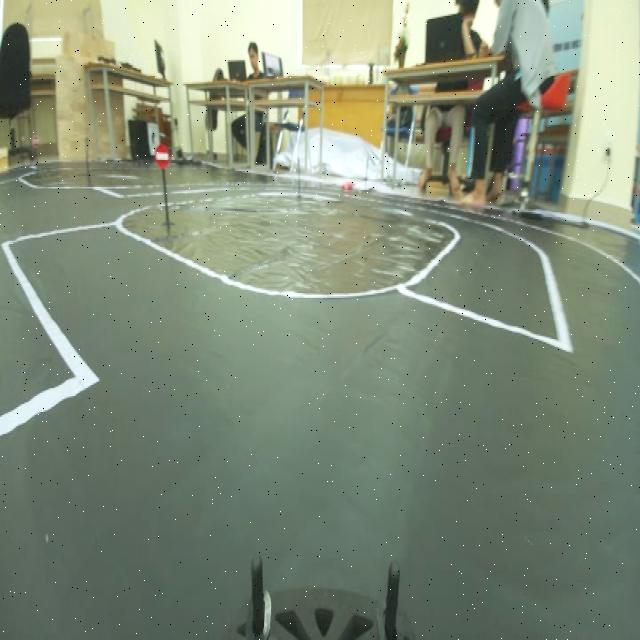no_entry: (150, 140, 173, 175)
